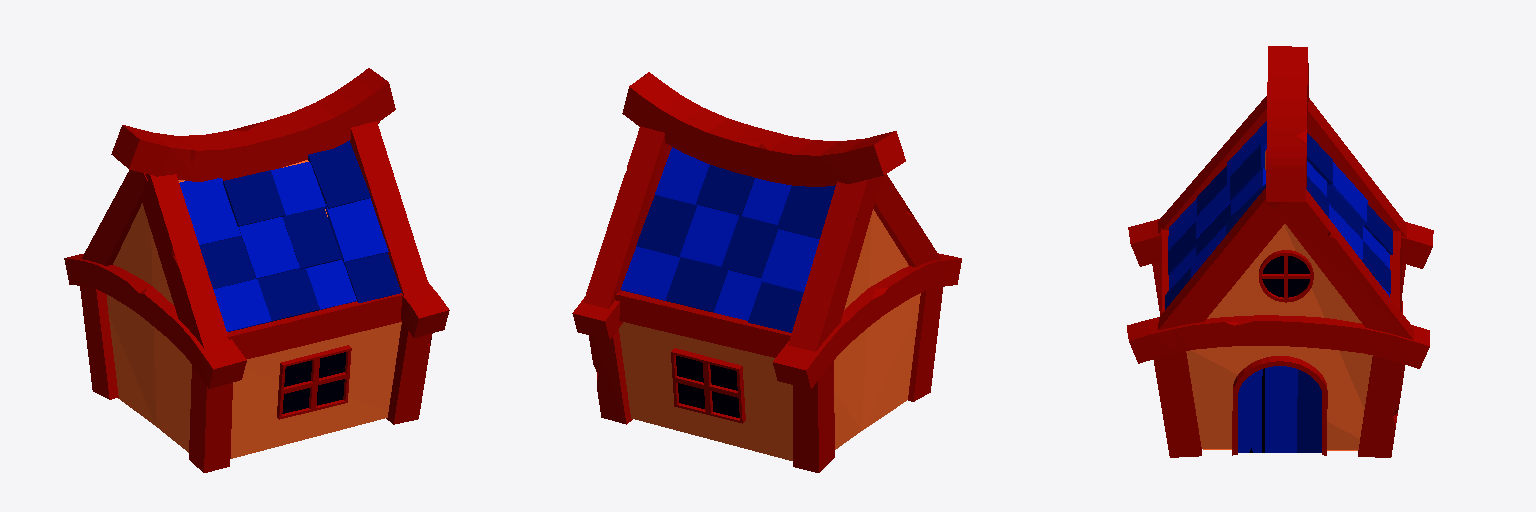
Rendered from casa_deprived.obj.
3 views of the same model, side by side, from view 1: azimuth 30°, elevation 25°; view 2: azimuth 150°, elevation 25°; view 3: azimuth 270°, elevation 25° (orthographic).
Parts seen in each view (by area): view 1: PAREDES, Cubo.004, Cubo.007, Cubo.026, Cubo.008, Cubo.009, ventana.001, Cubo.013, Cubo.003, Cubo.012, Cubo.006, Cubo.035 (+12 smaller); view 2: PAREDES, Cubo.004, Cubo.006, Cubo.026, Cubo.005, Cubo.011, ventana, Cubo.012, Cubo.007, Cubo.002, Cubo.015, Cubo.024 (+12 smaller); view 3: PAREDES, Cubo.001, puerta, Cubo.005, Cubo.004, Cubo.008, Cubo.003, Cubo.002, Cubo.006, Cubo.007, Cubo.026, ventana_circular (+15 smaller).
Part boxes in pixels (bbox=[...]): PAREDES: bbox=[106, 160, 401, 458]; Cubo.004: bbox=[111, 68, 395, 181]; Cubo.007: bbox=[140, 174, 229, 348]; Cubo.026: bbox=[64, 254, 246, 388]; Cubo.008: bbox=[350, 121, 430, 296]; Cubo.009: bbox=[225, 293, 402, 358]; ventana.001: bbox=[277, 345, 351, 419]; Cubo.013: bbox=[189, 365, 232, 472]; Cubo.003: bbox=[386, 321, 432, 424]; Cubo.012: bbox=[80, 286, 118, 399]; Cubo.006: bbox=[82, 170, 147, 265]; Cubo.035: bbox=[179, 178, 240, 244]; PAREDES: bbox=[619, 209, 920, 460]; Cubo.004: bbox=[622, 72, 905, 186]; Cubo.006: bbox=[788, 176, 881, 351]; Cubo.026: bbox=[773, 253, 961, 388]; Cubo.005: bbox=[583, 126, 671, 308]; Cubo.011: bbox=[615, 291, 791, 357]; ventana: bbox=[671, 348, 745, 423]; Cubo.012: bbox=[793, 361, 834, 472]; Cubo.007: bbox=[873, 174, 940, 266]; Cubo.002: bbox=[589, 329, 632, 424]; Cubo.015: bbox=[761, 229, 819, 292]; Cubo.024: bbox=[636, 195, 696, 256]; PAREDES: bbox=[1186, 151, 1372, 450]; Cubo.001: bbox=[1127, 315, 1429, 368]; puerta: bbox=[1232, 356, 1327, 455]; Cubo.005: bbox=[1264, 189, 1413, 339]; Cubo.004: bbox=[1266, 46, 1308, 201]; Cubo.008: bbox=[1158, 188, 1284, 329]; Cubo.003: bbox=[1153, 351, 1201, 457]; Cubo.002: bbox=[1358, 356, 1404, 457]; Cubo.006: bbox=[1307, 98, 1406, 237]; Cubo.007: bbox=[1158, 96, 1266, 233]; Cubo.026: bbox=[1128, 218, 1433, 268]; ventana_circular: bbox=[1259, 250, 1313, 302].
Bounding box in the file's own units: 1.96 × 2.13 × 1.97.